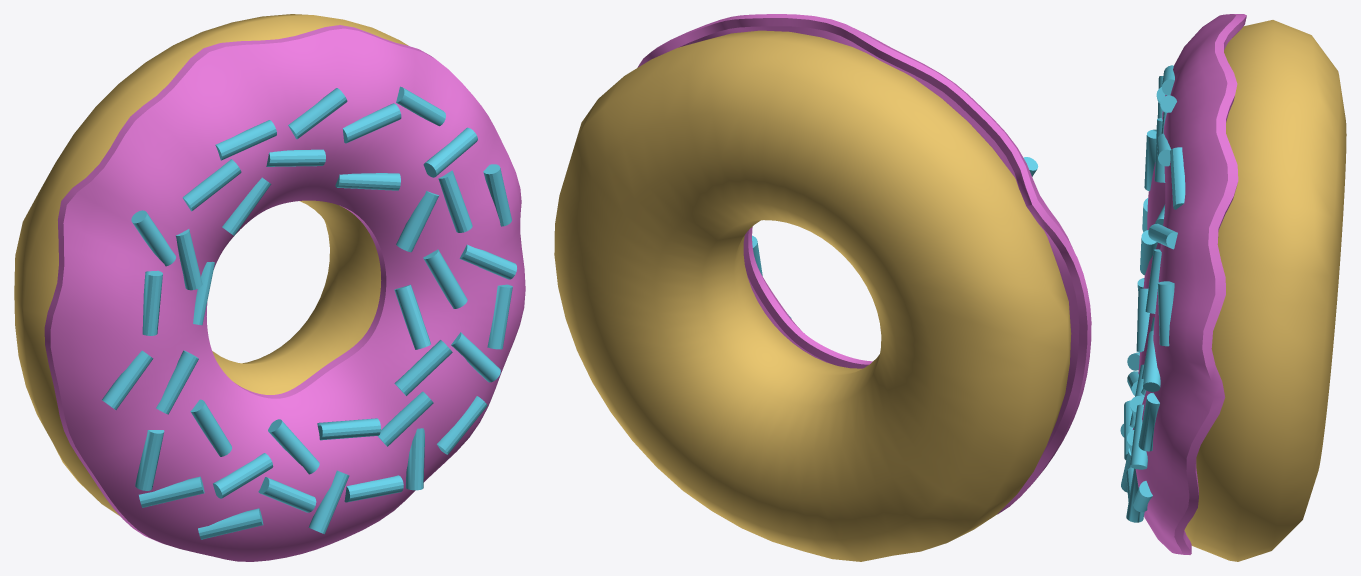
Rendered from donut.fbx.
3 views of the same model, side by side, from view 1: azimuth 30°, elevation 25°; view 2: azimuth 150°, elevation 25°; view 3: azimuth 270°, elevation 25° (orthographic). The views are drawn at different scales.
Visible parts, largest first — view 1: donutsos, taneler, donut; view 2: donut, donutsos; view 3: donut, donutsos, taneler.
Boxes of the visible parts, bbox=[...] form: donutsos: bbox=[44, 25, 525, 561]; taneler: bbox=[102, 86, 516, 539]; donut: bbox=[14, 14, 408, 515]; donut: bbox=[554, 30, 1071, 561]; donutsos: bbox=[637, 14, 1091, 514]; donut: bbox=[1184, 20, 1346, 561]; donutsos: bbox=[1132, 14, 1246, 554]; taneler: bbox=[1120, 65, 1185, 522].
Bounding box in the file's own units: 146 × 145 × 60.33.
